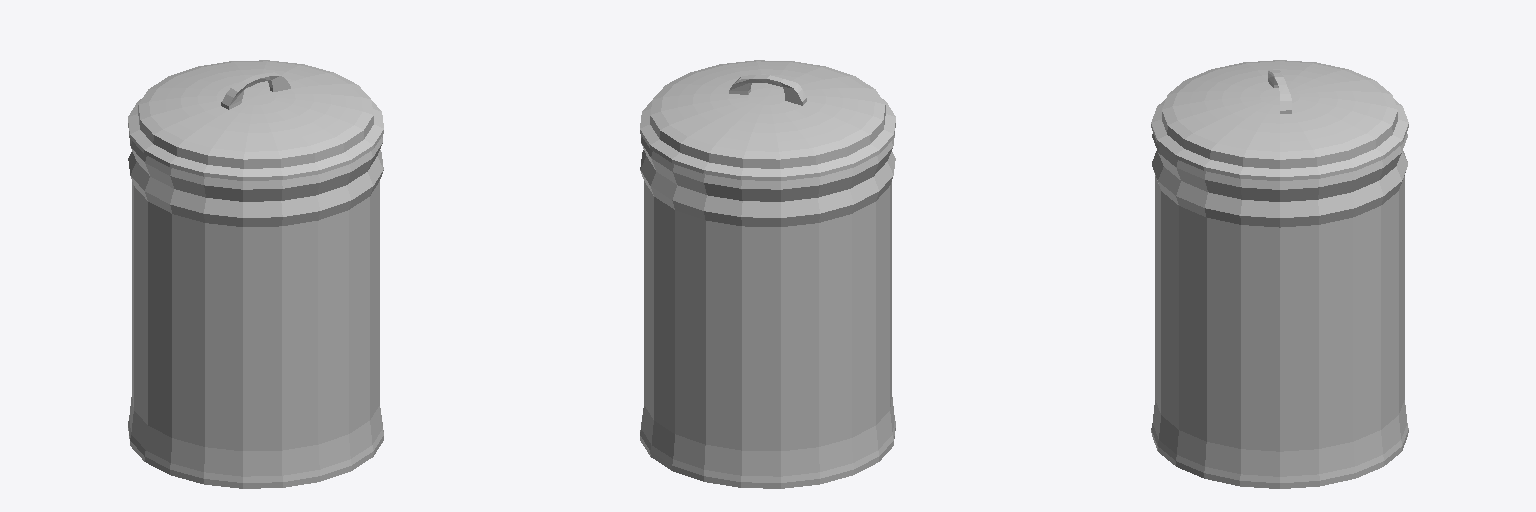
File: Bin.obj
3 views of the same model, side by side, from view 1: azimuth 30°, elevation 25°; view 2: azimuth 150°, elevation 25°; view 3: azimuth 270°, elevation 25° (orthographic).
Parts seen in each view (by area): view 1: pCylinder1, pSphere1; view 2: pCylinder1, pSphere1; view 3: pCylinder1, pSphere1.
Part boxes in pixels (x1,y1,x2,y2): pCylinder1: (128,135,383,488); pSphere1: (128,60,383,180); pCylinder1: (640,135,895,488); pSphere1: (640,60,895,180); pCylinder1: (1151,134,1408,488); pSphere1: (1151,60,1408,180).
Size of the model in its own units: 1.62 by 2.47 by 1.62.